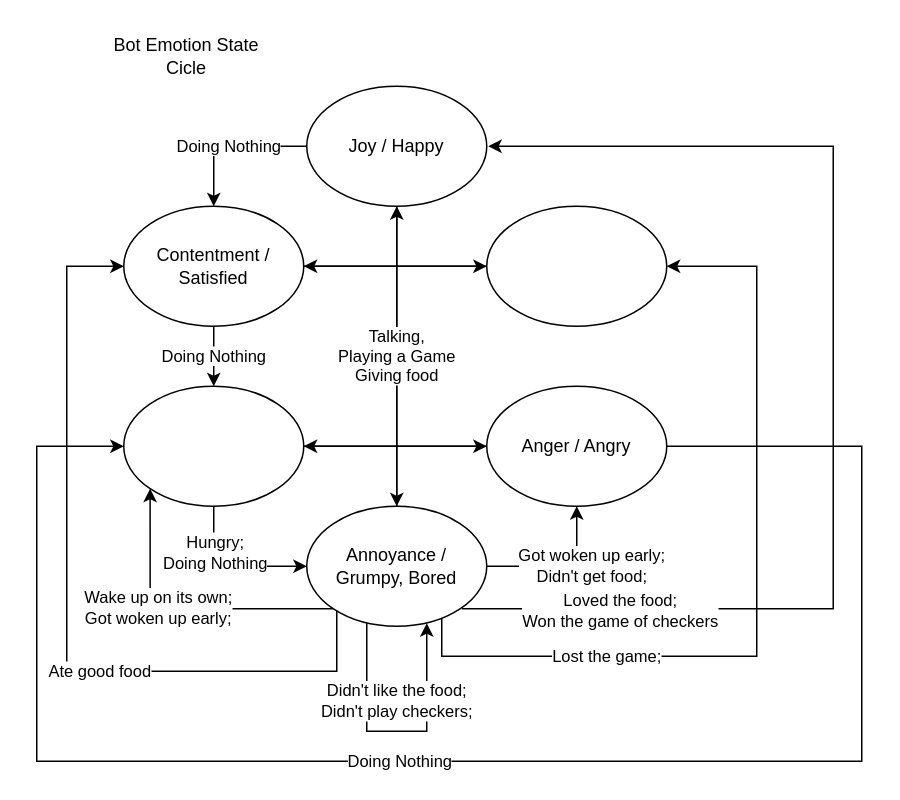
Some shapes in this 900 by 800 pixel diagram are drawn without their labels. The box of each missing label's shape, as (x1, y1, x2, y2) in pixels:
Calmness / Calm: (122, 385, 304, 506)
Sadness / Sad: (485, 205, 667, 326)
